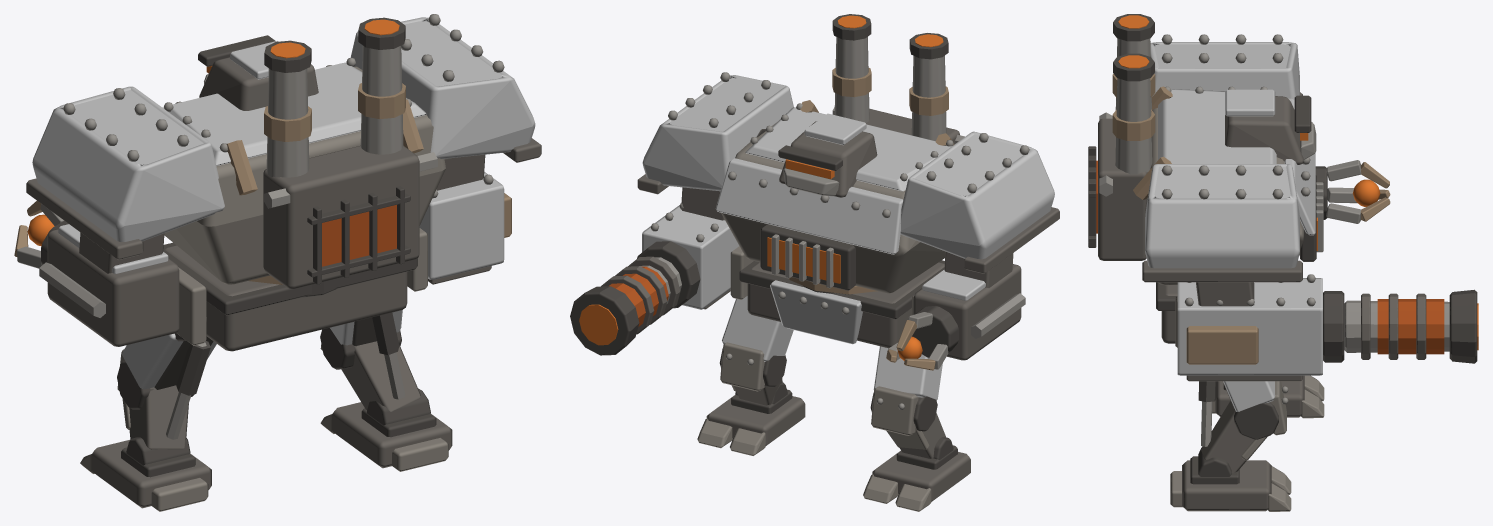
The model's file is crucible_commander.glb.
3 renders of one model, left to right at view 1: azimuth 30°, elevation 25°; view 2: azimuth 150°, elevation 25°; view 3: azimuth 270°, elevation 25°, orthographic. The views are drawn at different scales.
Visible parts, largest first — view 1: Turret, Body; view 2: Turret, Body; view 3: Turret, Body.
Boxes of the visible parts, <box> form: Turret: <box>14,14,541,346</box>; Body: <box>80,228,452,511</box>; Turret: <box>570,14,1059,370</box>; Body: <box>697,246,970,511</box>; Turret: <box>1088,14,1478,381</box>; Body: <box>1156,253,1324,511</box>.
Size of the model in its own units: 1.54 by 1.63 by 1.41.
